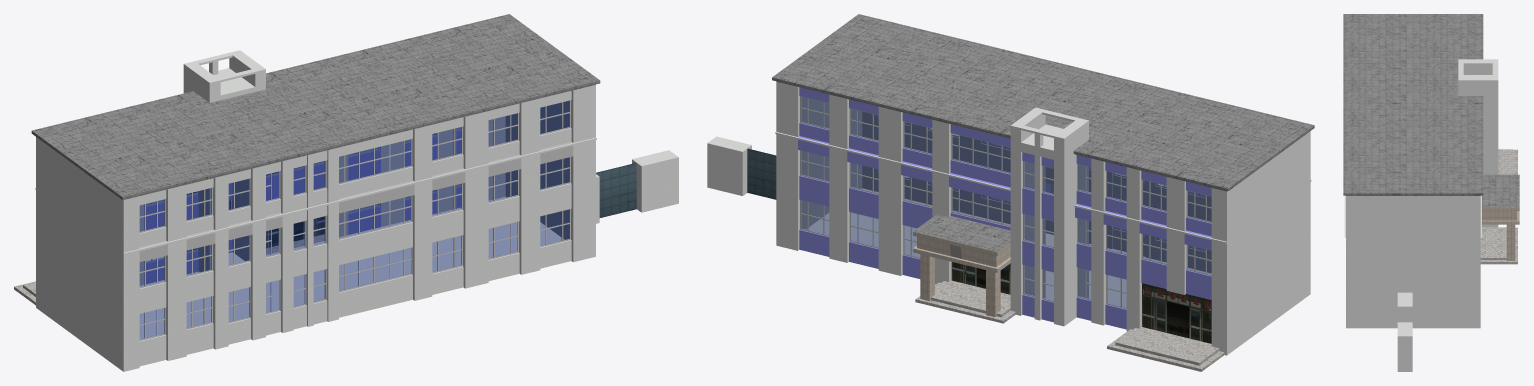
The model's file is SM_Building05.FBX.
3 renders of one model, left to right at view 1: azimuth 30°, elevation 25°; view 2: azimuth 150°, elevation 25°; view 3: azimuth 270°, elevation 25°, orthographic. The views are drawn at different scales.
Parts seen in each view (by area): view 1: SM_Building05; view 2: SM_Building05; view 3: SM_Building05.
Boxes of the visible parts, x1,y1,x2,y2 form: SM_Building05: (14,14,678,371); SM_Building05: (707,14,1314,371); SM_Building05: (1343,14,1519,371).
Size of the model in its own units: 3204 by 1018 by 1074.
